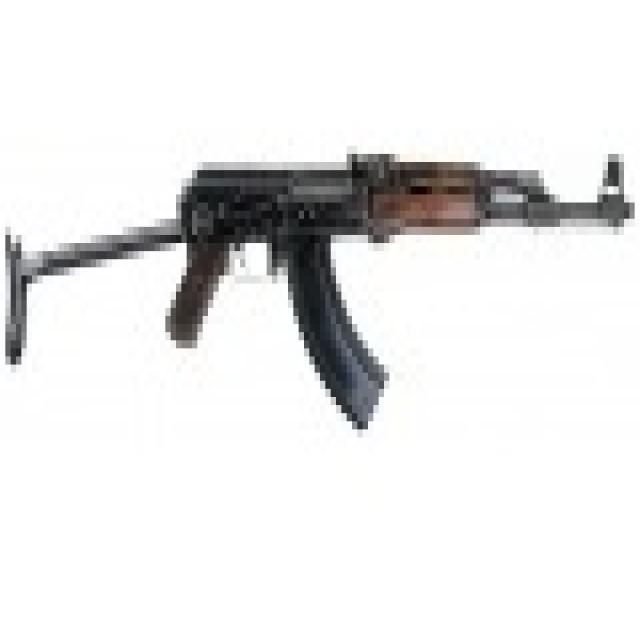Gun: (70, 43, 633, 452)
